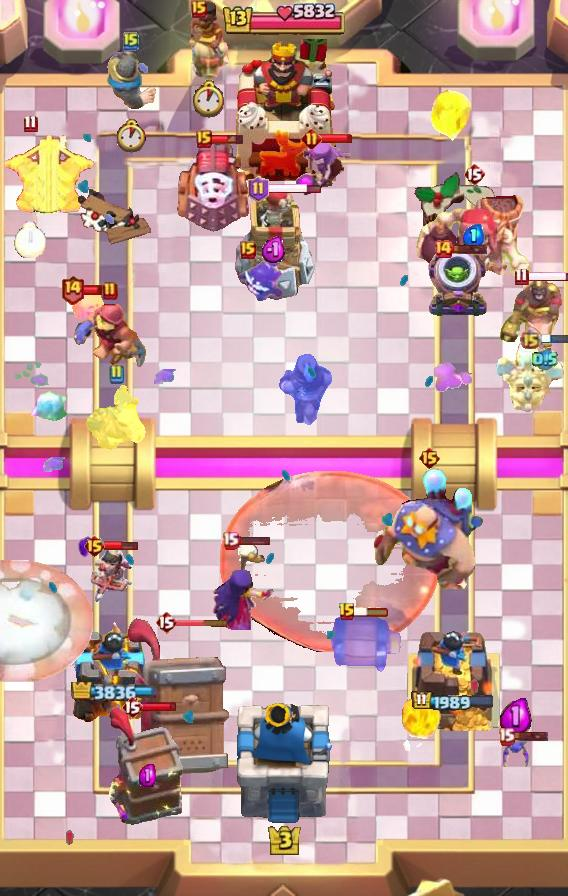axe: (212, 542, 276, 630)
barbarian: (500, 732, 532, 774)
bat: (30, 390, 68, 424)
bat-evolution: (70, 287, 106, 325)
clock: (221, 0, 347, 40)
dart-goblin: (126, 619, 230, 777), (108, 707, 186, 827)
electro-giant: (414, 186, 534, 296)
electro-spirit: (500, 696, 532, 736), (261, 236, 287, 264), (532, 349, 558, 372), (463, 224, 485, 248), (139, 764, 156, 787)
elite-barbarian: (186, 0, 232, 80)
elixir: (191, 80, 227, 118), (14, 221, 46, 259), (115, 119, 148, 153)
emote: (267, 181, 322, 194), (526, 270, 568, 283), (175, 617, 229, 626), (81, 284, 118, 297), (452, 243, 489, 255), (512, 730, 549, 742), (354, 606, 390, 618), (210, 133, 245, 145), (105, 540, 140, 552), (141, 700, 178, 711), (236, 535, 272, 546), (319, 133, 353, 144), (540, 331, 568, 344)
fireball: (71, 298, 149, 372)
firecracker: (106, 49, 157, 109)
freeze: (498, 279, 564, 351)
goblin-cage: (426, 249, 490, 319)
golem: (174, 140, 252, 234)
inferno-dragon: (277, 349, 333, 425)
king-tower: (232, 39, 336, 181), (235, 703, 333, 826)
lava-pup: (0, 135, 98, 217)
little-prince: (373, 467, 485, 591)
mini-pekka: (492, 340, 568, 420), (84, 384, 148, 452)
phoenix-egg: (218, 470, 442, 654)
queen-tower: (405, 621, 501, 731), (72, 619, 156, 731)
rascal-girl: (293, 137, 357, 199)
selected: (411, 690, 495, 714), (70, 682, 157, 701)
skeleton-dragon: (87, 544, 135, 606)
spear-goblin: (236, 254, 284, 302)
text: (60, 275, 85, 306), (519, 326, 542, 350), (418, 446, 441, 470), (83, 534, 106, 558), (247, 176, 268, 202), (463, 162, 485, 186), (155, 610, 177, 634), (121, 695, 143, 719), (302, 127, 323, 149), (433, 239, 453, 259), (338, 602, 356, 622), (497, 727, 515, 746), (222, 531, 239, 550), (123, 31, 139, 51), (102, 281, 118, 301), (108, 364, 124, 384), (191, 0, 207, 18), (196, 130, 212, 148), (240, 241, 256, 259), (515, 267, 529, 286), (23, 115, 37, 133)
the-log: (323, 614, 403, 674)
valkyrie: (426, 87, 474, 149), (397, 691, 445, 751)
wall-breaker: (0, 560, 94, 682)
zappy: (231, 186, 316, 302)
